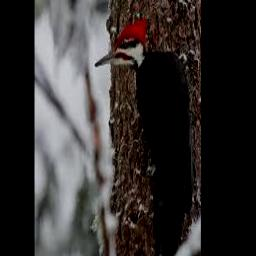Woodpecker: (95, 18, 189, 256)
